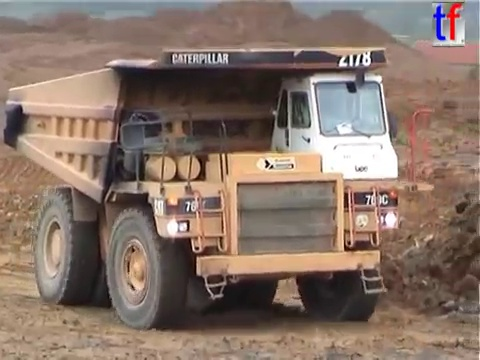truck: (1, 41, 435, 333)
